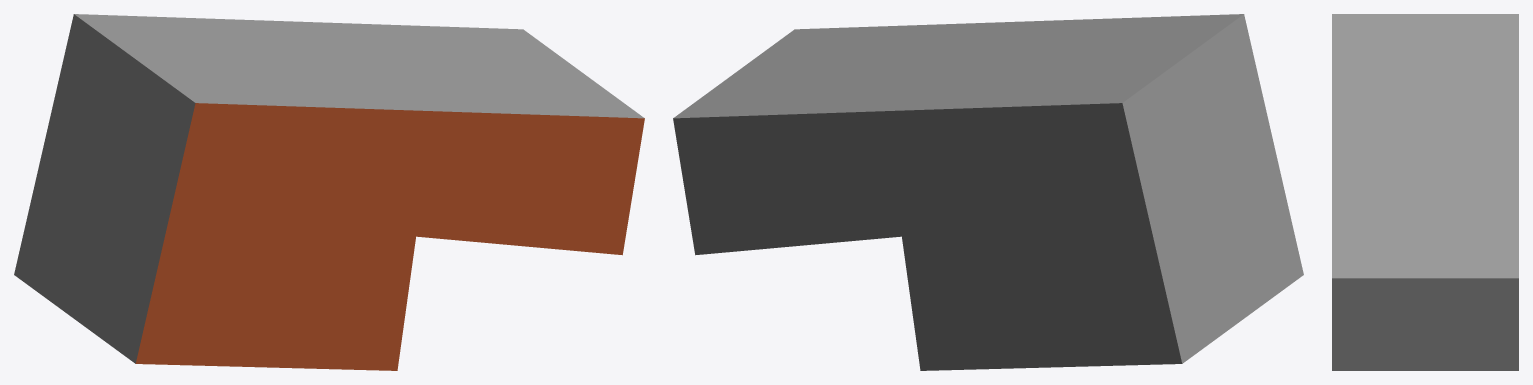
File: construction_5782_assumed_A_Casa_h6m.obj
The picture shows the model from 3 angles, left to right: view 1: azimuth 30°, elevation 25°; view 2: azimuth 150°, elevation 25°; view 3: azimuth 270°, elevation 25°; orthographic projection. The views are drawn at different scales.
Visible parts, largest first — view 1: construction_5782_assumed_A_Casa; view 2: construction_5782_assumed_A_Casa; view 3: construction_5782_assumed_A_Casa.
Boxes of the visible parts, x1,y1,x2,y2 form: construction_5782_assumed_A_Casa: (14, 14, 644, 370); construction_5782_assumed_A_Casa: (673, 14, 1303, 370); construction_5782_assumed_A_Casa: (1332, 14, 1518, 370).
Size of the model in its own units: 14.5 by 8.63 by 6.
